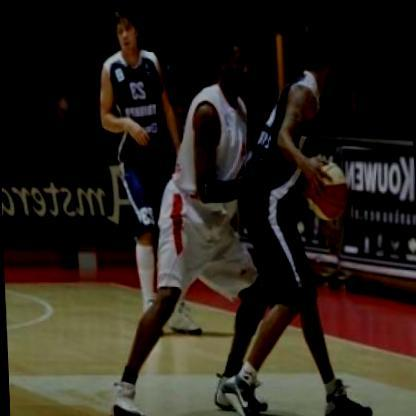basketball: (299, 149, 356, 222)
